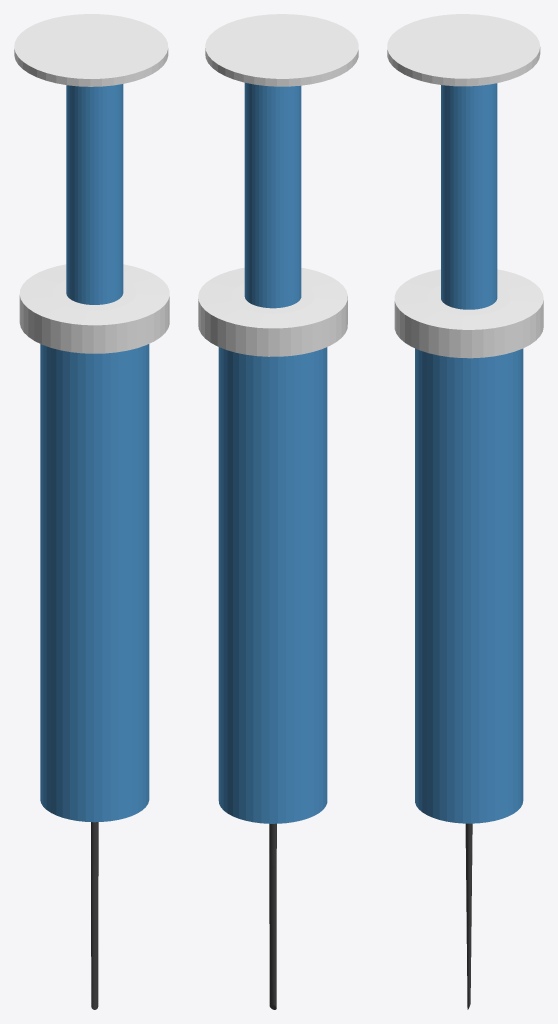
File: syrenge.fbx
3 renders of one model, left to right at view 1: azimuth 30°, elevation 25°; view 2: azimuth 150°, elevation 25°; view 3: azimuth 270°, elevation 25°, orthographic.
Parts seen in each view (by area): view 1: Cylinder; view 2: Cylinder; view 3: Cylinder.
Part boxes in pixels (bbox=[...]): Cylinder: bbox=[14, 14, 169, 1009]; Cylinder: bbox=[198, 14, 358, 1009]; Cylinder: bbox=[387, 14, 543, 1009].
Size of the model in its own units: 1.51 by 10.1 by 1.49.
